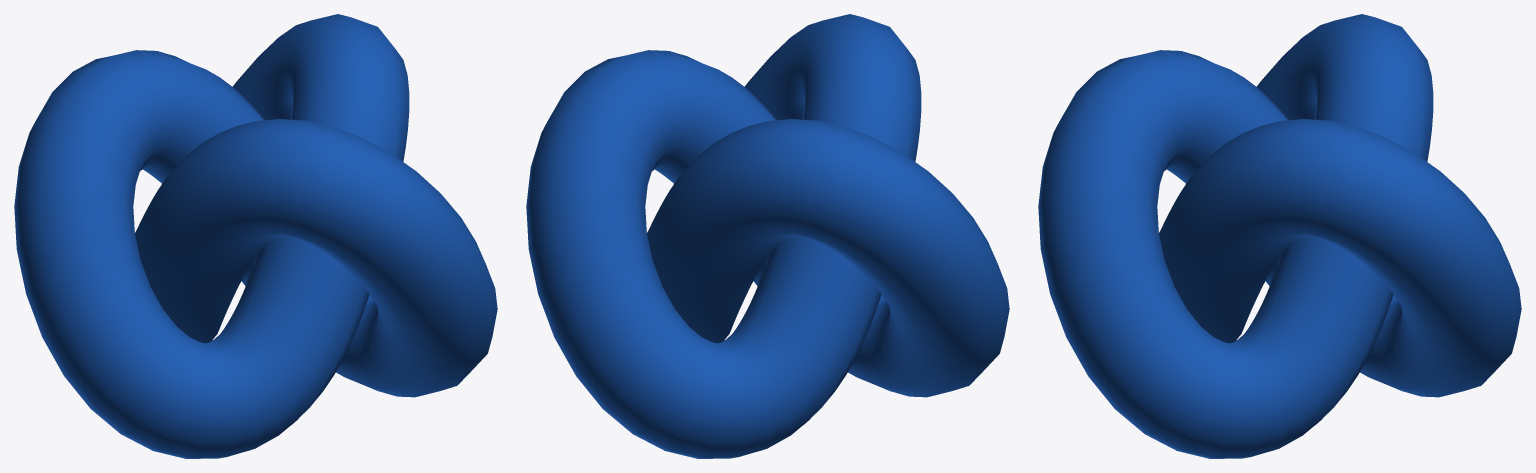
3 views of the same model, side by side, from view 1: azimuth 30°, elevation 25°; view 2: azimuth 150°, elevation 25°; view 3: azimuth 270°, elevation 25° (orthographic).
Parts seen in each view (by area): view 1: Torus_Knot001; view 2: Torus_Knot001; view 3: Torus_Knot001.
Part boxes in pixels (left/top/right/bottom): Torus_Knot001: left=14, top=14, right=497, bottom=458; Torus_Knot001: left=526, top=14, right=1009, bottom=458; Torus_Knot001: left=1038, top=14, right=1521, bottom=458.
Size of the model in its own units: 3.81 by 3.02 by 4.04.
